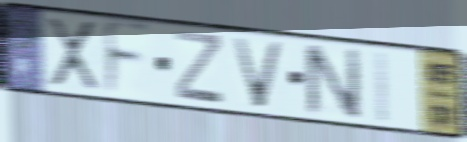F: (101, 16, 154, 100)
I: (372, 48, 393, 126)
N: (300, 42, 364, 122)
V: (229, 34, 289, 111)
X: (43, 15, 102, 92)
Z: (173, 28, 226, 108)
